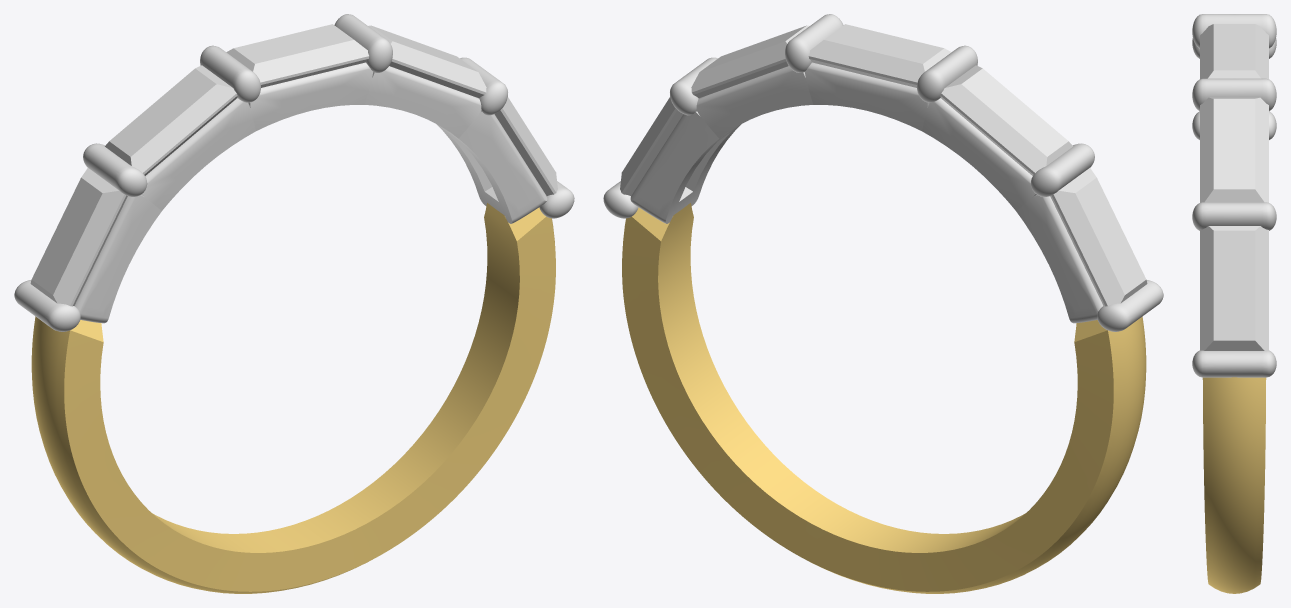
The model's file is Abby5stoneYG_blender.glb.
The picture shows the model from 3 angles, left to right: view 1: azimuth 30°, elevation 25°; view 2: azimuth 150°, elevation 25°; view 3: azimuth 270°, elevation 25°; orthographic projection. The views are drawn at different scales.
Parts seen in each view (by area): view 1: v3 Abby YG for 3d model, v3 Abby PT for 3d model, v3 Abby dia baguette for 3d model.001, v3 Abby dia baguette for 3d model, v3 Abby dia baguette for 3d model.004, v3 Abby dia baguette for 3d model.003, v3 Abby dia baguette for 3d model.002; view 2: v3 Abby YG for 3d model, v3 Abby PT for 3d model, v3 Abby dia baguette for 3d model.001, v3 Abby dia baguette for 3d model, v3 Abby dia baguette for 3d model.004, v3 Abby dia baguette for 3d model.003, v3 Abby dia baguette for 3d model.002; view 3: v3 Abby YG for 3d model, v3 Abby dia baguette for 3d model.002, v3 Abby PT for 3d model, v3 Abby dia baguette for 3d model.003, v3 Abby dia baguette for 3d model.004.
Part boxes in pixels (x1=…): v3 Abby YG for 3d model: x1=31, y1=203, x2=555, y2=593; v3 Abby PT for 3d model: x1=14, y1=14, x2=574, y2=331; v3 Abby dia baguette for 3d model.001: x1=30, y1=168, x2=127, y2=306; v3 Abby dia baguette for 3d model: x1=105, y1=65, x2=237, y2=175; v3 Abby dia baguette for 3d model.004: x1=226, y1=24, x2=369, y2=87; v3 Abby dia baguette for 3d model.003: x1=368, y1=25, x2=486, y2=98; v3 Abby dia baguette for 3d model.002: x1=494, y1=97, x2=557, y2=195; v3 Abby YG for 3d model: x1=622, y1=203, x2=1146, y2=593; v3 Abby PT for 3d model: x1=603, y1=14, x2=1163, y2=331; v3 Abby dia baguette for 3d model.001: x1=1050, y1=168, x2=1147, y2=306; v3 Abby dia baguette for 3d model: x1=940, y1=65, x2=1072, y2=175; v3 Abby dia baguette for 3d model.004: x1=808, y1=24, x2=951, y2=87; v3 Abby dia baguette for 3d model.003: x1=691, y1=25, x2=809, y2=98; v3 Abby dia baguette for 3d model.002: x1=620, y1=97, x2=683, y2=195; v3 Abby YG for 3d model: x1=1202, y1=377, x2=1266, y2=593; v3 Abby dia baguette for 3d model.002: x1=1200, y1=226, x2=1268, y2=350; v3 Abby PT for 3d model: x1=1192, y1=14, x2=1276, y2=377; v3 Abby dia baguette for 3d model.003: x1=1200, y1=97, x2=1268, y2=202; v3 Abby dia baguette for 3d model.004: x1=1200, y1=24, x2=1268, y2=79.
Size of the model in its own units: 21.18 by 20.87 by 3.06.
